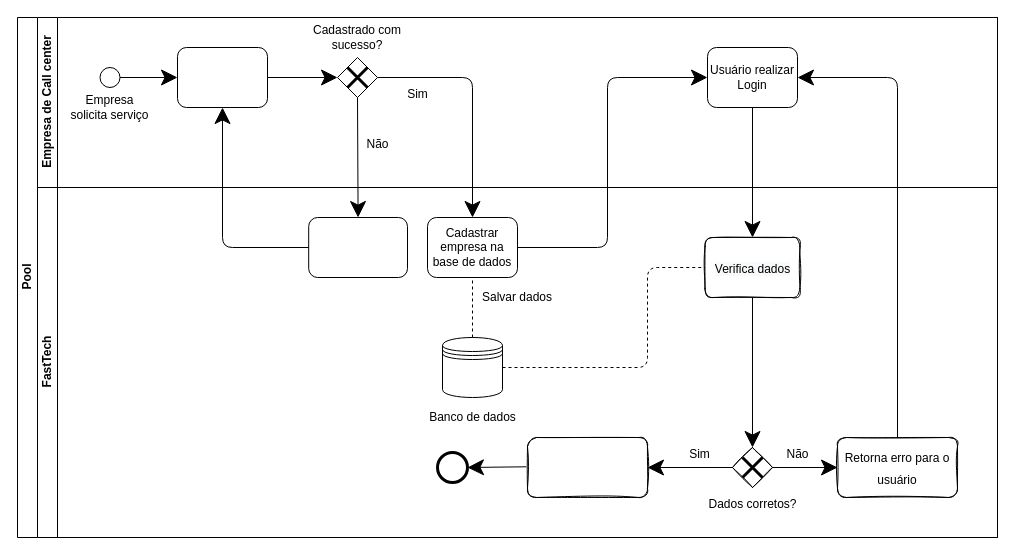
Image size: 1015x555. Some labels were removed from this diagram. Here are the shapes that lost their labels. From the top down, the centre of each, then its label:
pixel 222 77: Realizar cadastro
pixel 358 247: Enviar feedback de erro de cadastro
pixel 587 467: Ir para dashboard
